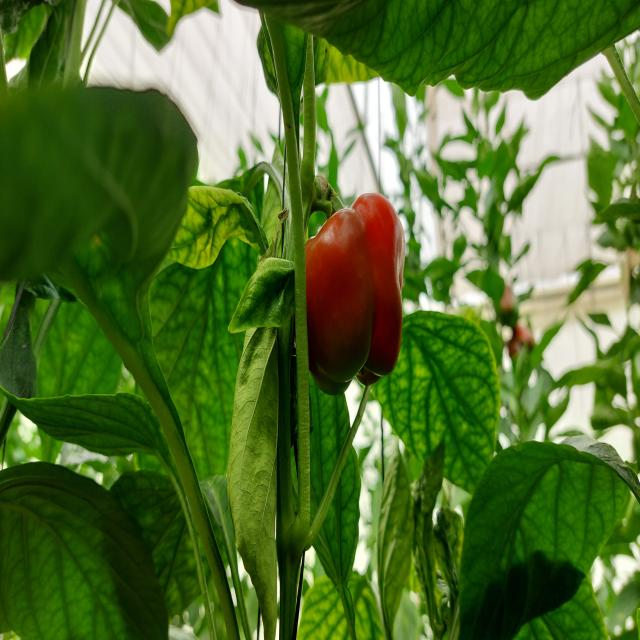Red-Ready-to-Harvest: (286, 204, 412, 403)
